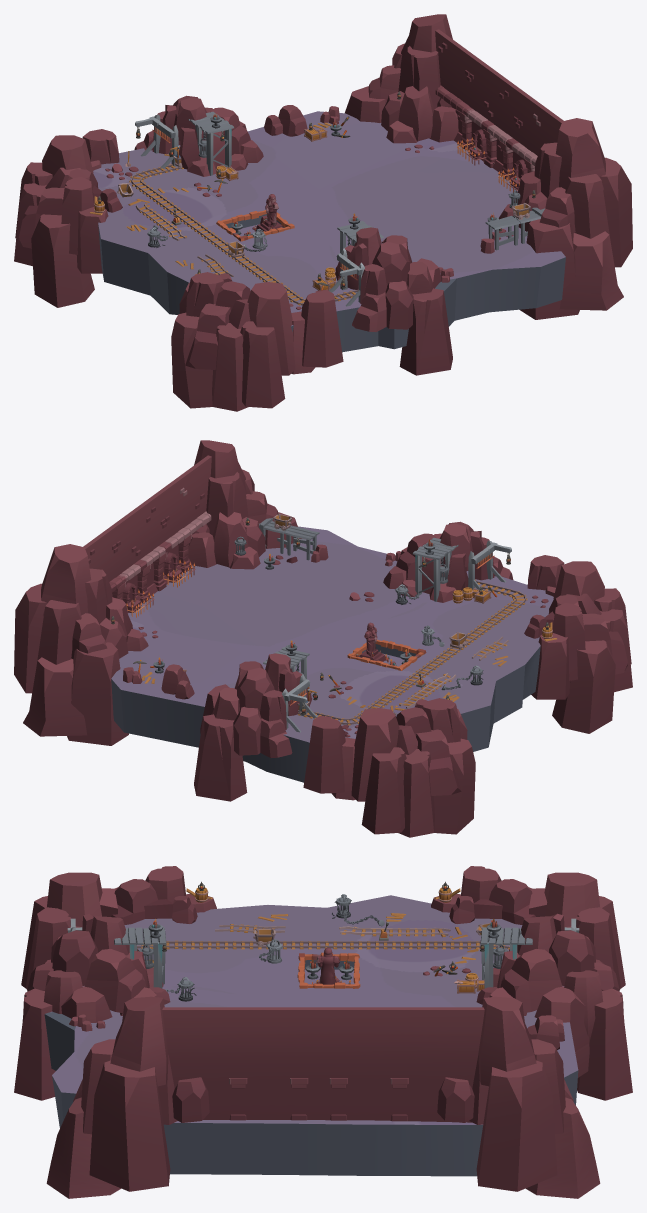
Rendered from Cave inside for Level 2.fbx.
3 views of the same model, one above another, from view 1: azimuth 30°, elevation 25°; view 2: azimuth 150°, elevation 25°; view 3: azimuth 270°, elevation 25° (orthographic). The views are drawn at different scales.
Parts seen in each view (by area): view 1: Plane.009, Cube.252, Circle.005, Circle.167, Circle.178, Circle.007, Circle.006, Circle.183, Circle.004, Circle.126, Circle.182, Circle.160 (+29 smaller); view 2: Plane.009, Cube.252, Circle.005, Circle.182, Circle.167, Circle.178, Circle.007, Circle.006, Circle.126, Circle.183, Circle.004, Circle.160 (+28 smaller); view 3: Plane.009, Cube.252, Circle.180, Circle.126, Circle.178, Circle.183, Circle.154, Circle.167, Circle.139, Circle.155, Circle.006, Circle.179 (+20 smaller).
Part boxes in pixels (x1,y1,x2,y2): Plane.009: (93, 111, 565, 352); Cube.252: (435, 29, 563, 181); Circle.005: (31, 214, 212, 408); Circle.167: (42, 135, 295, 375); Circle.178: (400, 14, 605, 189); Circle.007: (15, 162, 285, 408); Circle.006: (82, 129, 343, 367); Circle.183: (560, 231, 623, 310); Circle.004: (14, 183, 248, 411); Circle.126: (399, 288, 452, 375); Circle.182: (345, 86, 579, 319); Circle.160: (19, 187, 230, 369); Plane.009: (111, 526, 553, 782); Cube.252: (83, 455, 211, 613); Circle.005: (434, 640, 615, 834); Circle.182: (67, 512, 301, 745); Circle.167: (351, 561, 604, 801); Circle.178: (41, 440, 246, 615); Circle.007: (361, 588, 631, 834); Circle.006: (303, 555, 564, 793); Circle.126: (194, 714, 247, 801); Circle.183: (23, 657, 86, 736); Circle.004: (398, 609, 632, 837); Circle.160: (416, 613, 627, 795); Plane.009: (44, 895, 578, 1176); Cube.252: (162, 1007, 484, 1122); Circle.180: (89, 1060, 557, 1191); Circle.126: (14, 988, 632, 1100); Circle.178: (110, 996, 536, 1086); Circle.183: (46, 1097, 600, 1198); Circle.154: (84, 949, 562, 1013); Circle.167: (47, 872, 599, 927); Circle.139: (61, 986, 589, 1077); Circle.155: (52, 930, 594, 985); Circle.006: (26, 907, 620, 990); Circle.179: (81, 1039, 565, 1134).
Bounding box in the file's own units: 14.79 × 5.83 × 14.42.
